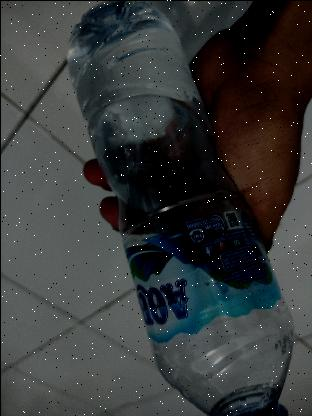Plastic Bottle: (59, 0, 309, 416)
